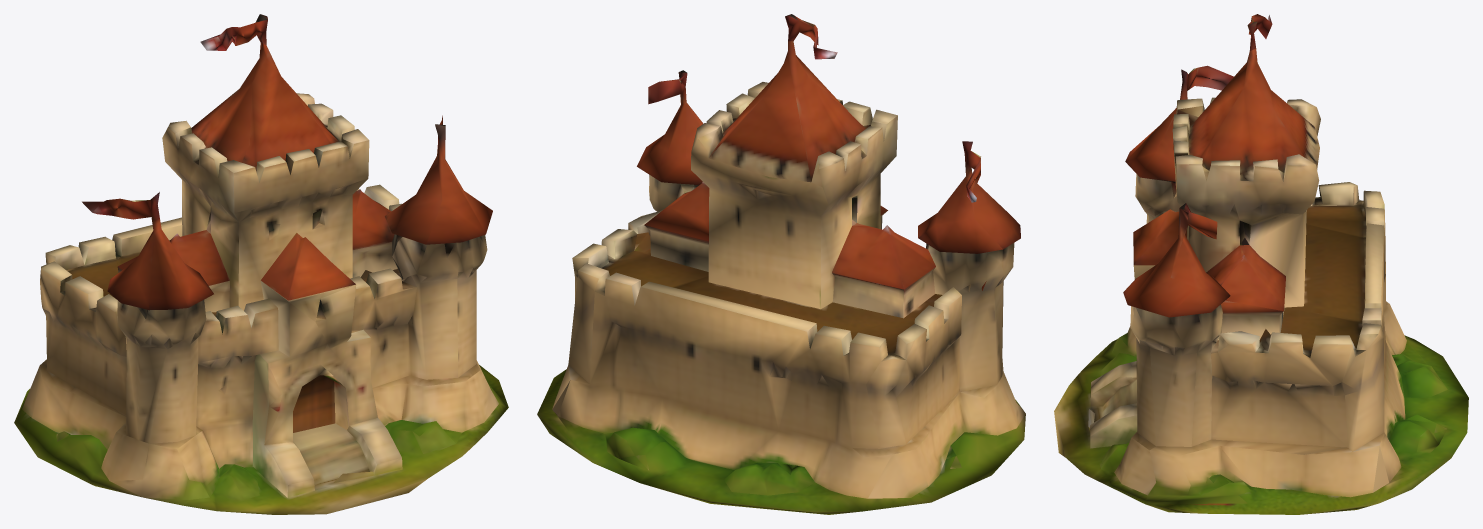
File: keep.glb
The picture shows the model from 3 angles, left to right: view 1: azimuth 30°, elevation 25°; view 2: azimuth 150°, elevation 25°; view 3: azimuth 270°, elevation 25°; orthographic projection. The views are drawn at different scales.
Parts seen in each view (by area): view 1: tmpr08klq17.ply; view 2: tmpr08klq17.ply; view 3: tmpr08klq17.ply.
Boxes of the visible parts, bbox=[...] form: tmpr08klq17.ply: bbox=[14, 14, 508, 514]; tmpr08klq17.ply: bbox=[537, 14, 1025, 514]; tmpr08klq17.ply: bbox=[1054, 14, 1468, 514].
Bounding box in the file's own units: 1.96 × 1.83 × 1.68.
1 material, 1 textured.
